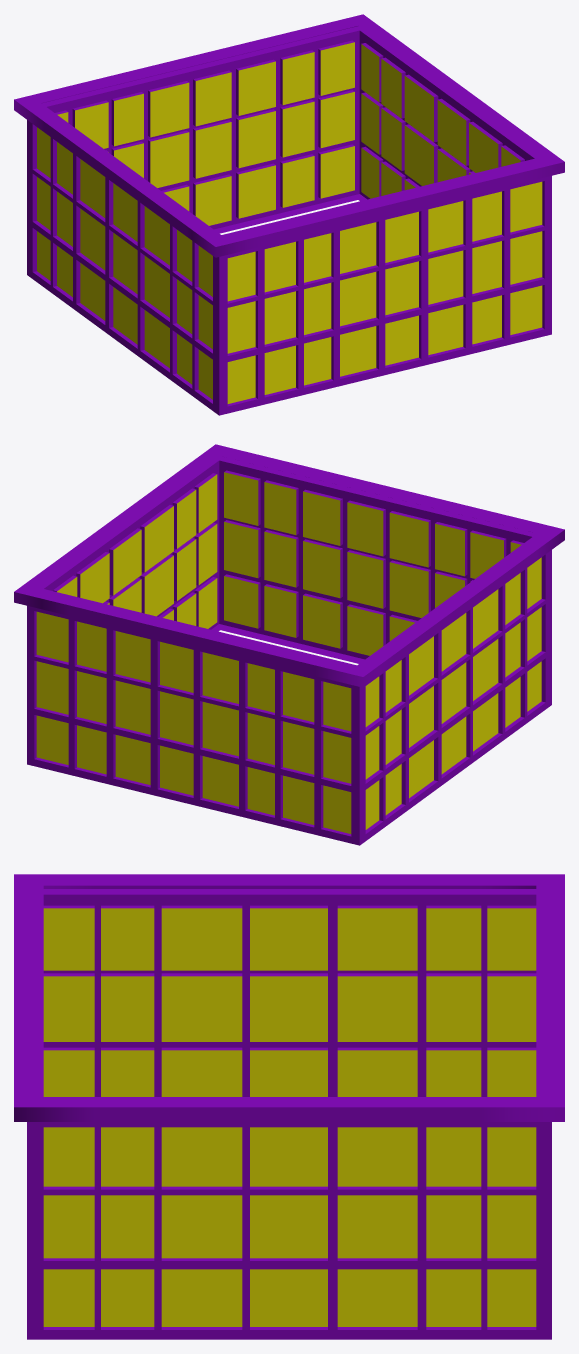
Rendered from Building_Large_Peice_003.fbx.
3 views of the same model, one above another, from view 1: azimuth 30°, elevation 25°; view 2: azimuth 150°, elevation 25°; view 3: azimuth 270°, elevation 25° (orthographic). The views are drawn at different scales.
Visible parts, largest first — view 1: Building_Large_Piece_003; view 2: Building_Large_Piece_003; view 3: Building_Large_Piece_003.
Part boxes in pixels (x1=…): Building_Large_Piece_003: x1=14, y1=14, x2=564, y2=415; Building_Large_Piece_003: x1=14, y1=444, x2=564, y2=845; Building_Large_Piece_003: x1=14, y1=874, x2=564, y2=1339.
Bounding box in the file's own units: 8400 × 4000 × 8400.
